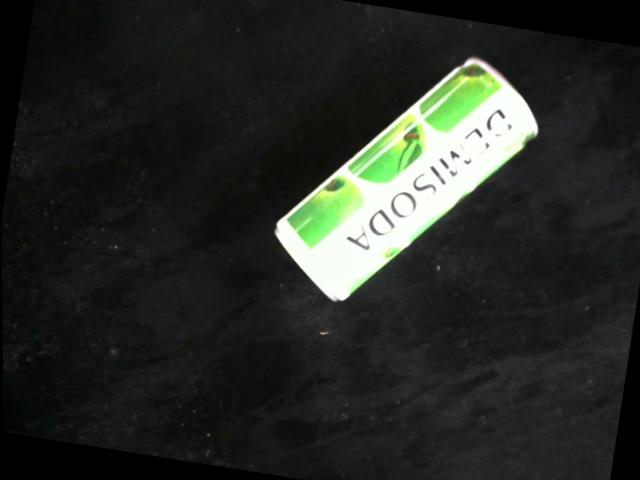can: (271, 55, 540, 304)
